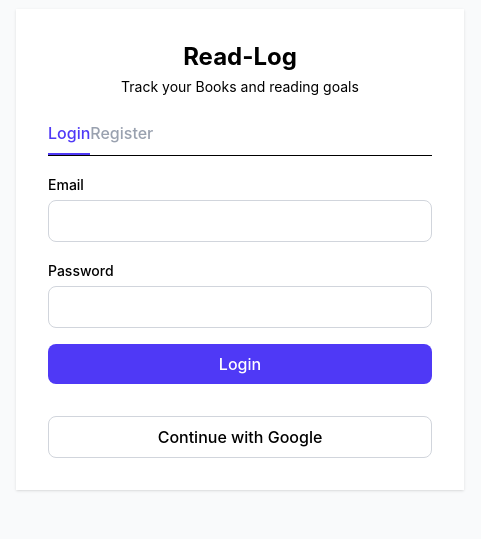
Test: Login page › shows a message when the Google window is closed
Click the button "Continue with Google".
click(240, 436)  # box x1=48 y1=416 x2=432 y2=458
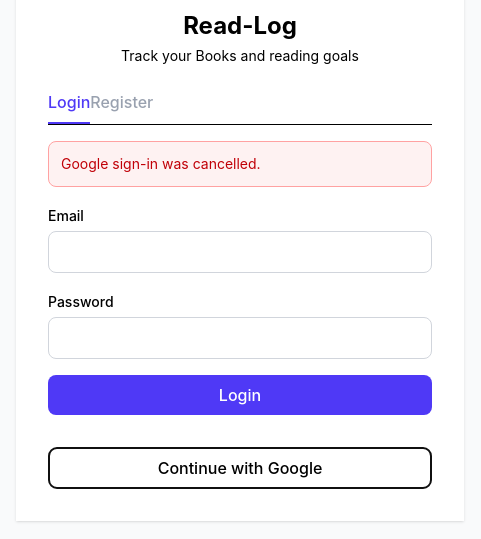
Check: the text "Google sign-in was cancelled." is shown, box x1=48 y1=140 x2=432 y2=186
